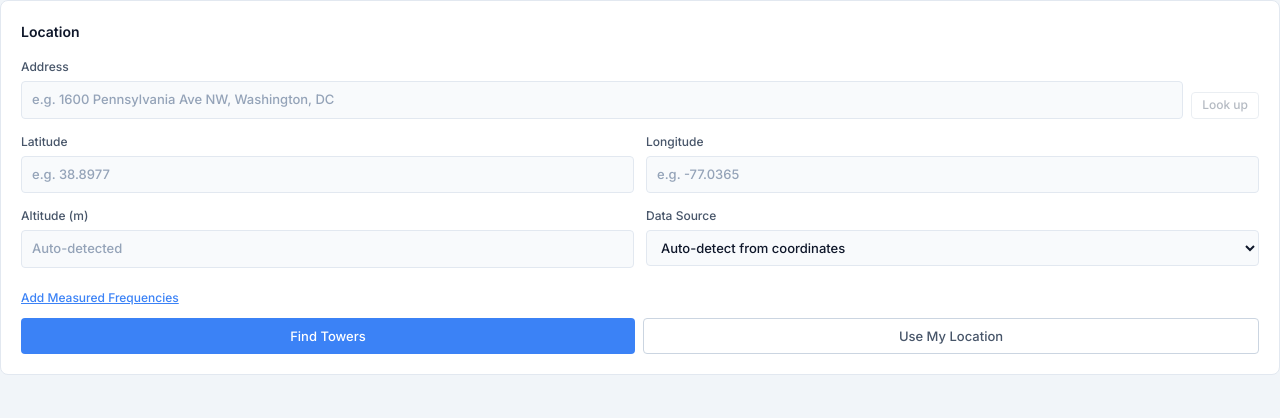
Test: SearchForm address lookup › shows the server's wording when the address has no match
Step 1. Type "nowhere at all" into the field labelled "Address" → (602,100), box [21,81,1183,118]
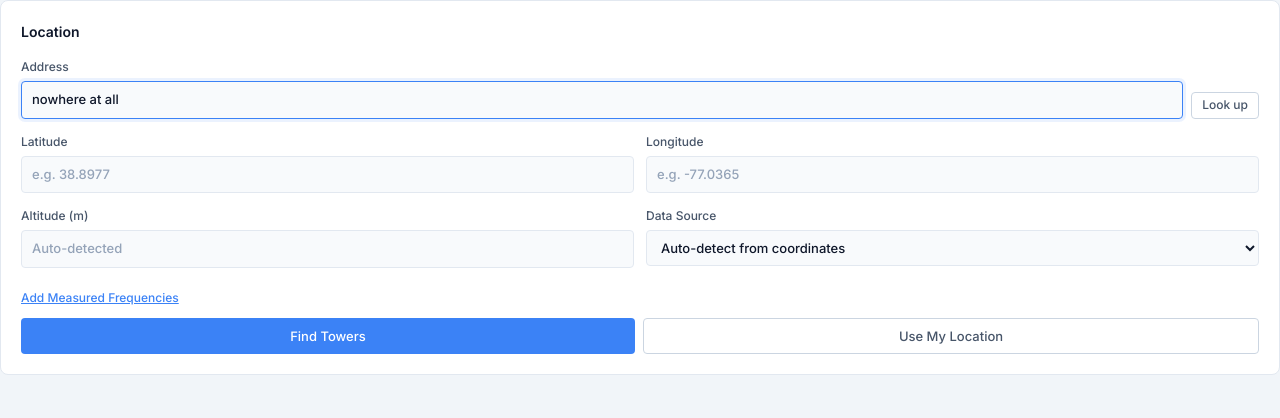
Step 2. Click the button "Look up" → (1225,105), box [1191,92,1259,118]
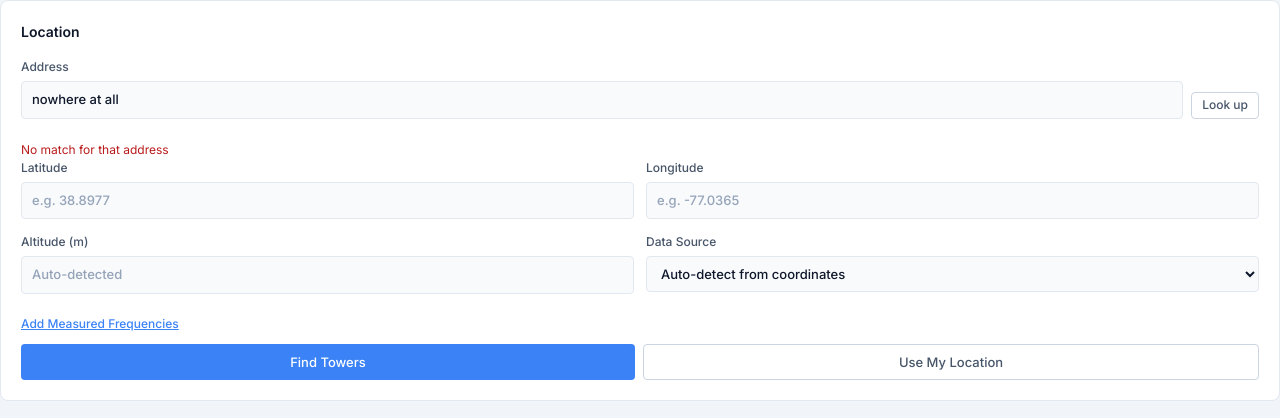
Expected: the number field labelled "Latitude" is not empty, [21,182,634,219]
Now the text "No match for that address" is shown, box [21,142,169,156]
